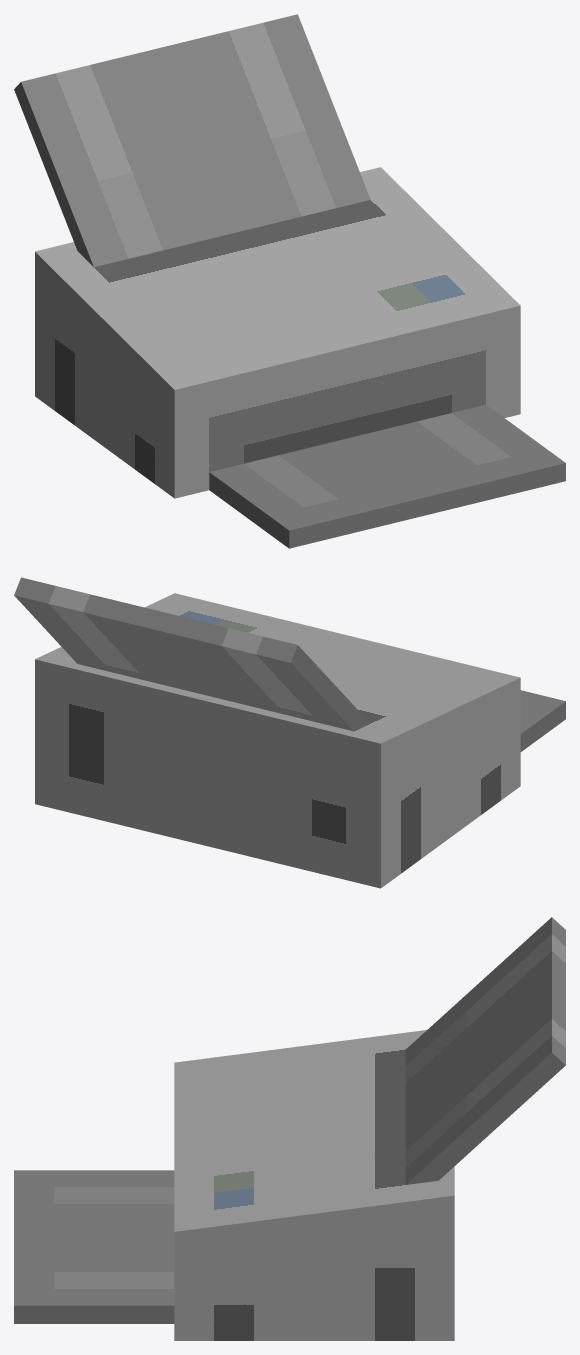
File: printer.glb
3 renders of one model, top to bottom at view 1: azimuth 30°, elevation 25°; view 2: azimuth 150°, elevation 25°; view 3: azimuth 270°, elevation 25°, orthographic.
Visible parts, largest first — view 1: cuboid (×3); view 2: cuboid (×3); view 3: cuboid (×3).
Part boxes in pixels (box(x1,y1,x2,y2)): cuboid (×3): box(14, 14, 565, 548); cuboid (×3): box(14, 577, 565, 888); cuboid (×3): box(14, 917, 565, 1340).
Size of the model in its own units: 0.625 by 0.4672 by 0.8611.
1 material, 1 textured.
